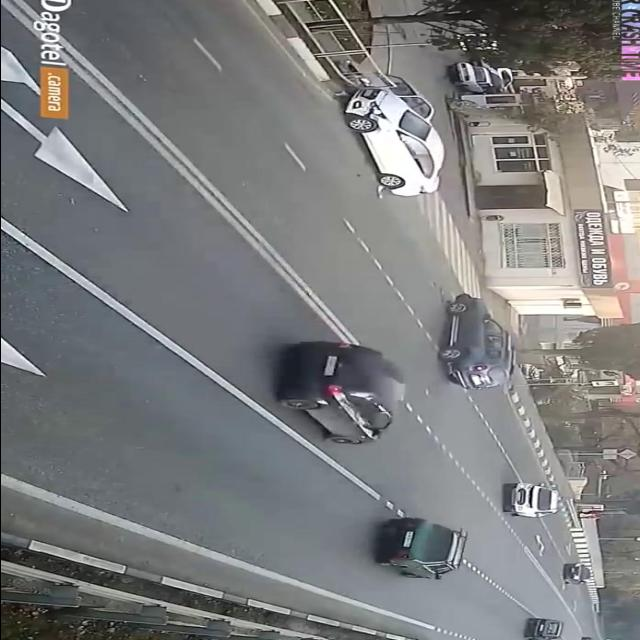accident: (336, 67, 464, 203)
